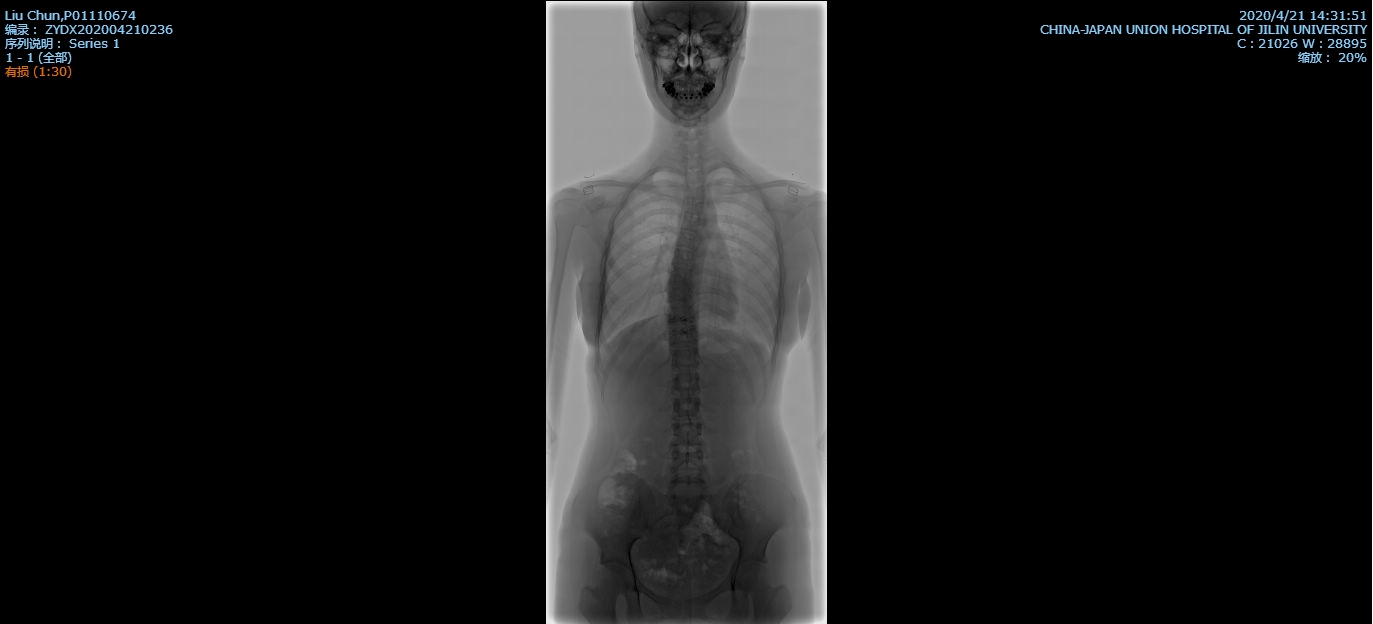Bone: (670, 474, 704, 494), (671, 451, 706, 468), (672, 425, 700, 445), (673, 399, 699, 416), (671, 350, 696, 367), (675, 375, 700, 391), (669, 332, 696, 346)
